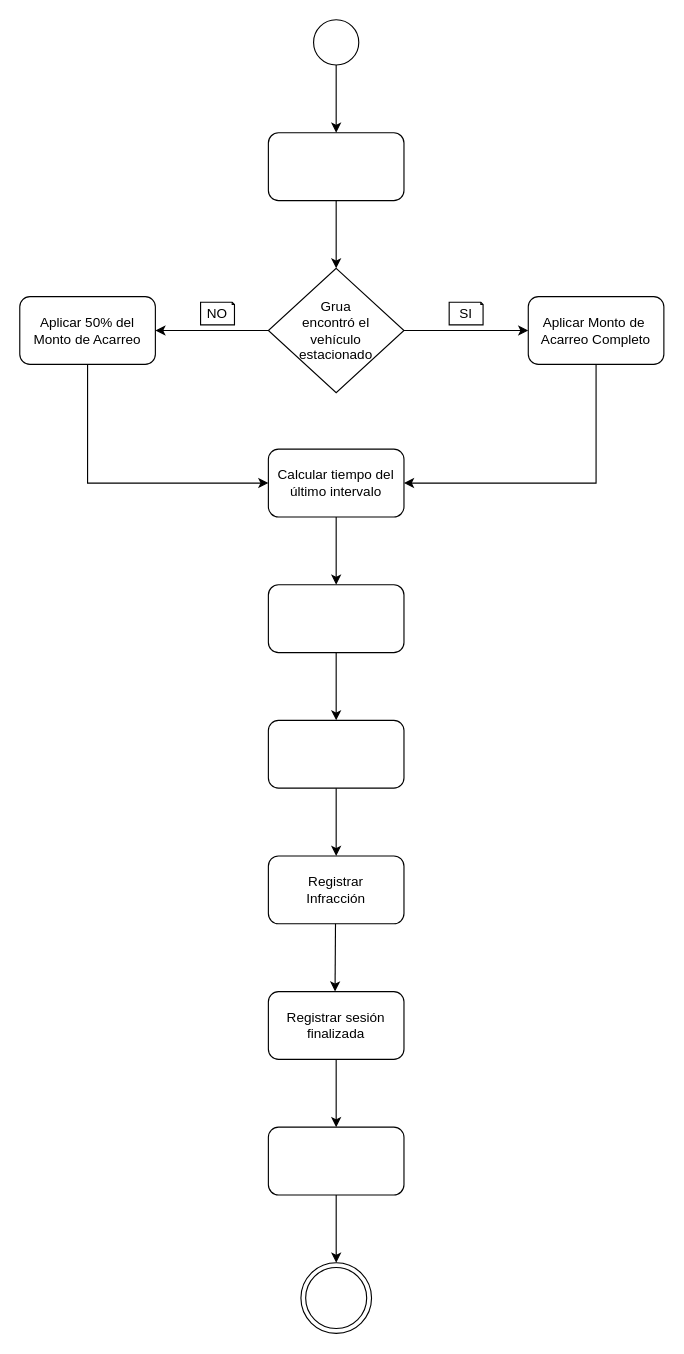
Some shapes in this 684 by 1354 pixel diagram are drawn without their labels. Here are the shapes that lost their labels. From the top down, the centre of each, then its label:
the point at 335,166: Solicitar intervención de Grua
the point at 335,618: Calcular monto a cobrar del último intervalo
the point at 335,753: Elaborar Infracción
the point at 335,1160: Notificar al usuario. fin de sesión
